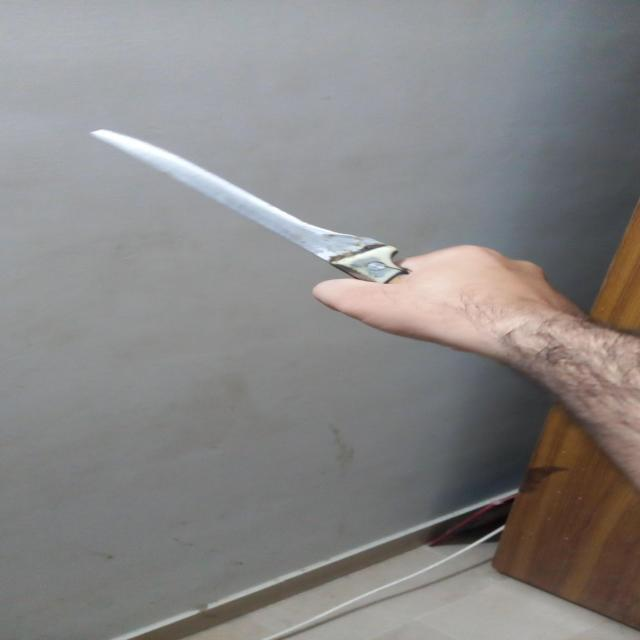faca: (90, 131, 412, 285)
